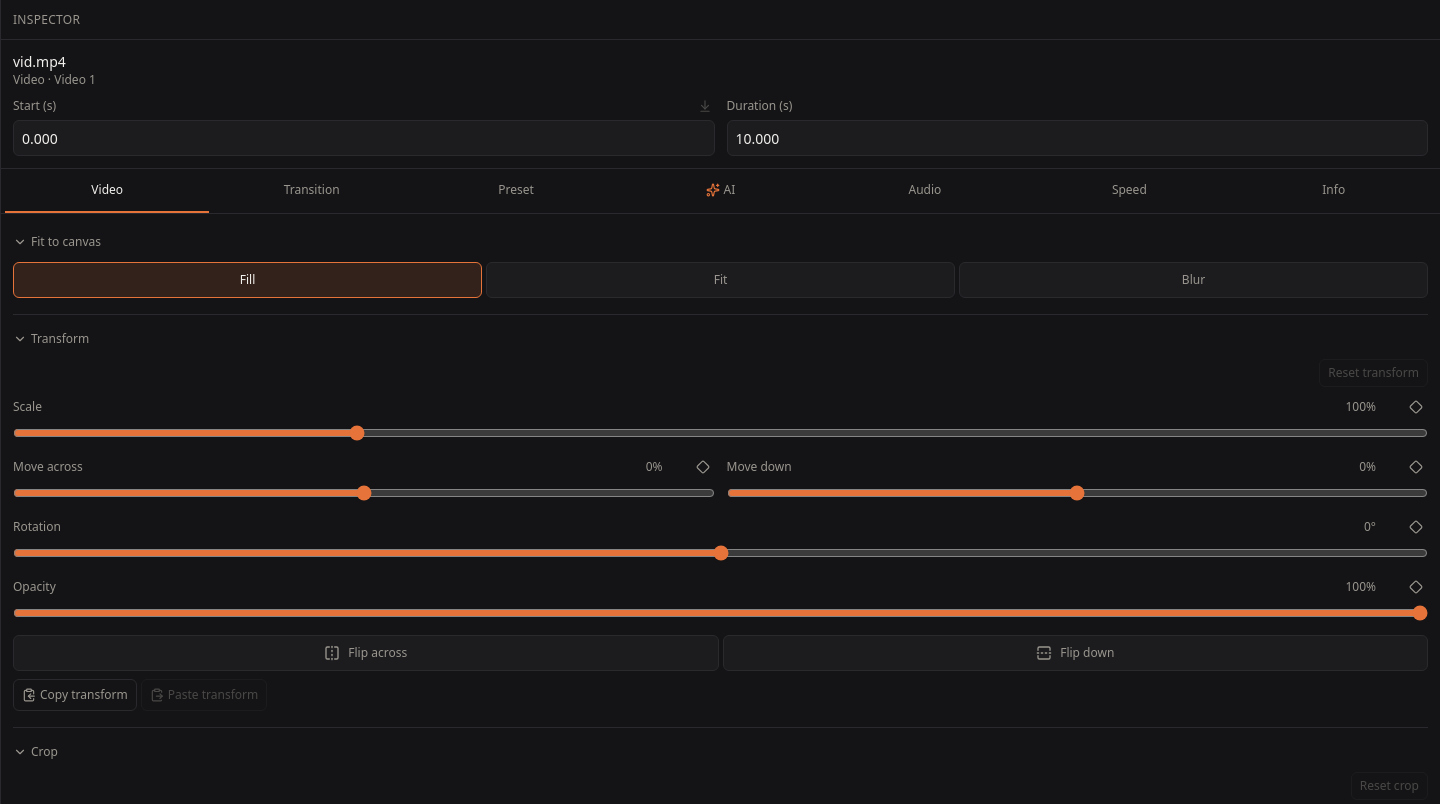
Inspector tabs › each tab shows its own controls and nothing else
Expected: the element named "Fit to canvas" is shown, x1=13 y1=262 x2=1428 y2=298
Expected: the slider labelled "Volume" is not shown
Click the tab "Audio". click: (925, 191)
box: x1=823 y1=169 x2=1027 y2=213
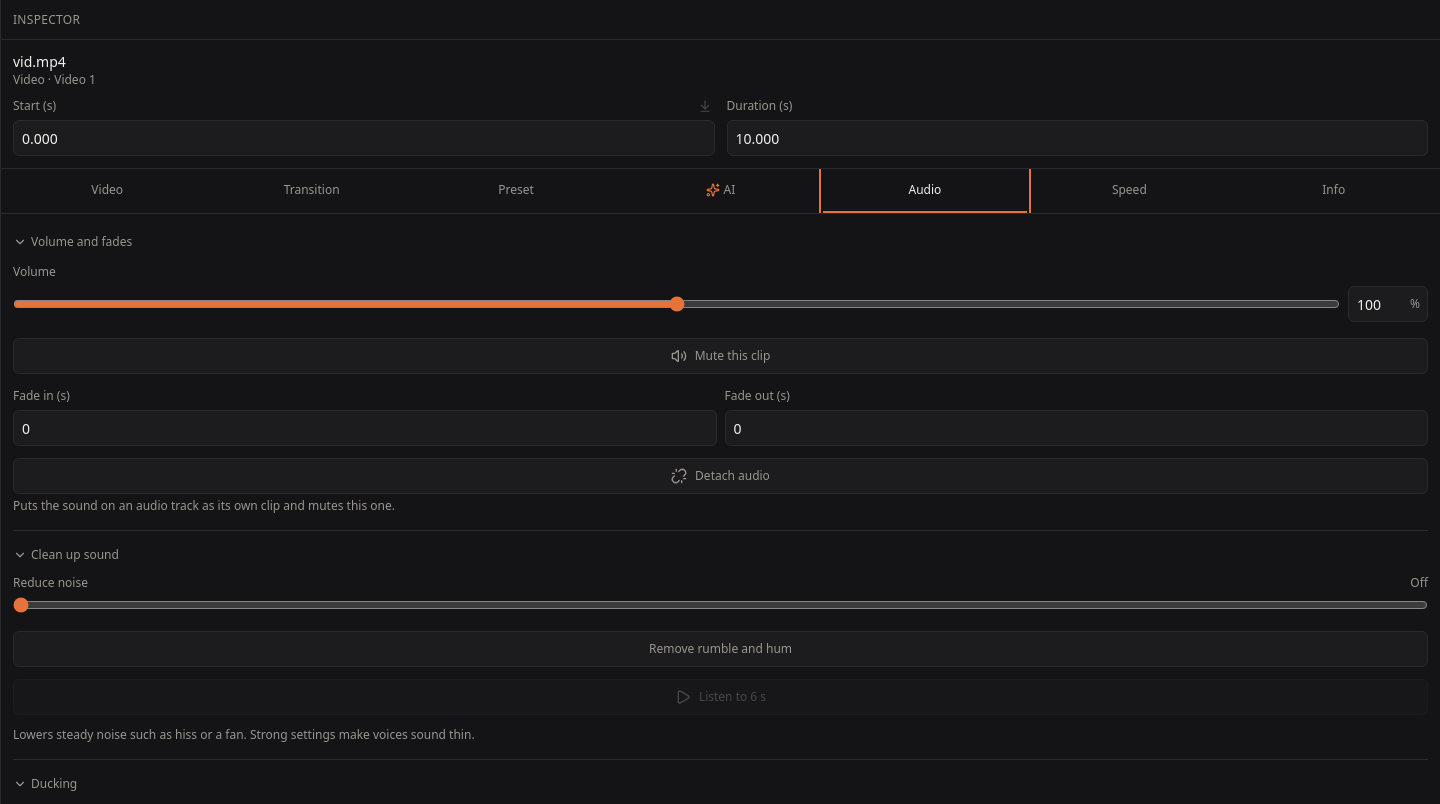
Expected: the slider labelled "Volume" is shown, x1=13 y1=296 x2=1340 y2=312
Expected: the button "Fit to canvas" is gone
Click the tab "Speed". click: (1129, 191)
box: x1=1027 y1=169 x2=1232 y2=213
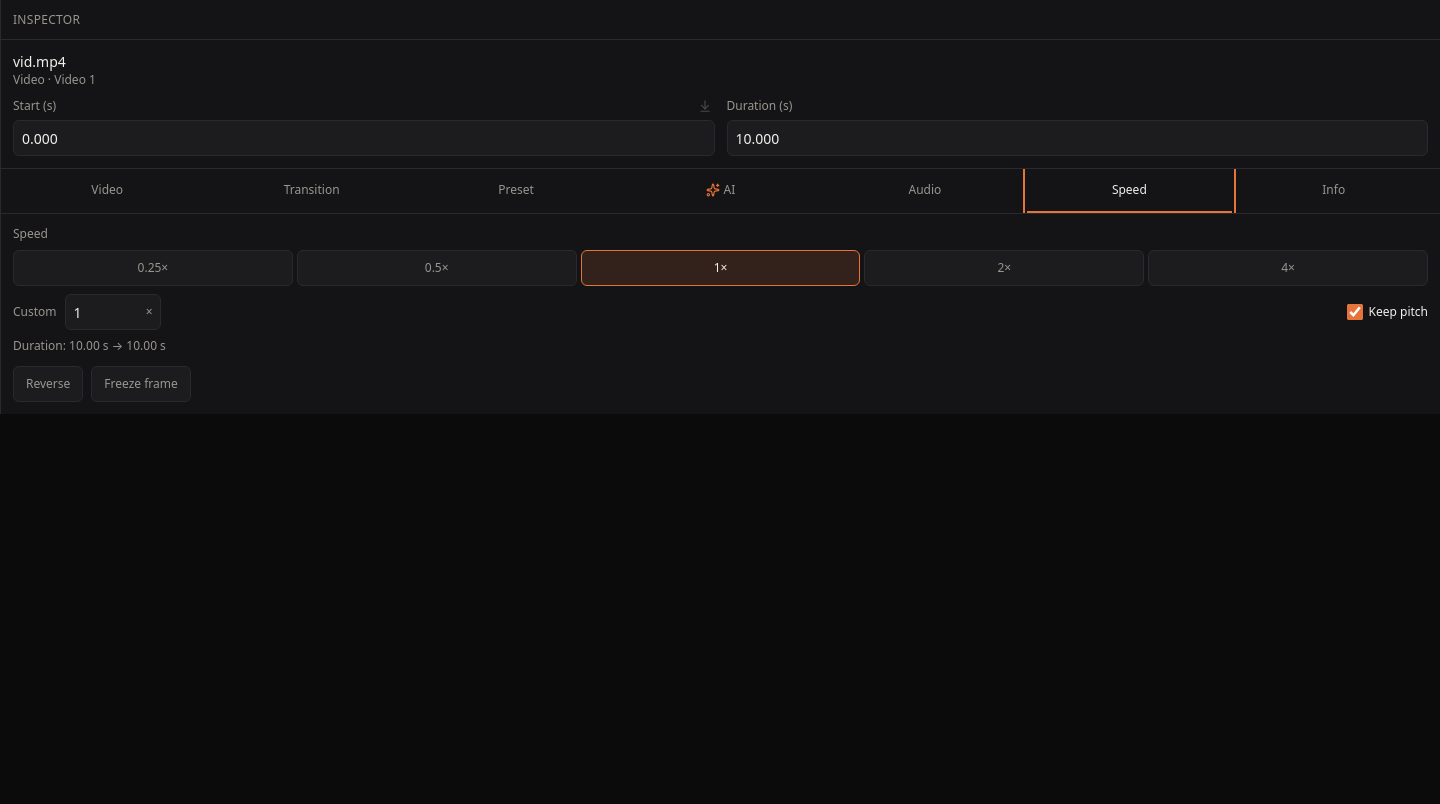
Expected: the element "Speed" is shown, x1=13 y1=226 x2=1428 y2=402
Click the tab "Info". click: (1334, 191)
box: x1=1232 y1=169 x2=1436 y2=213
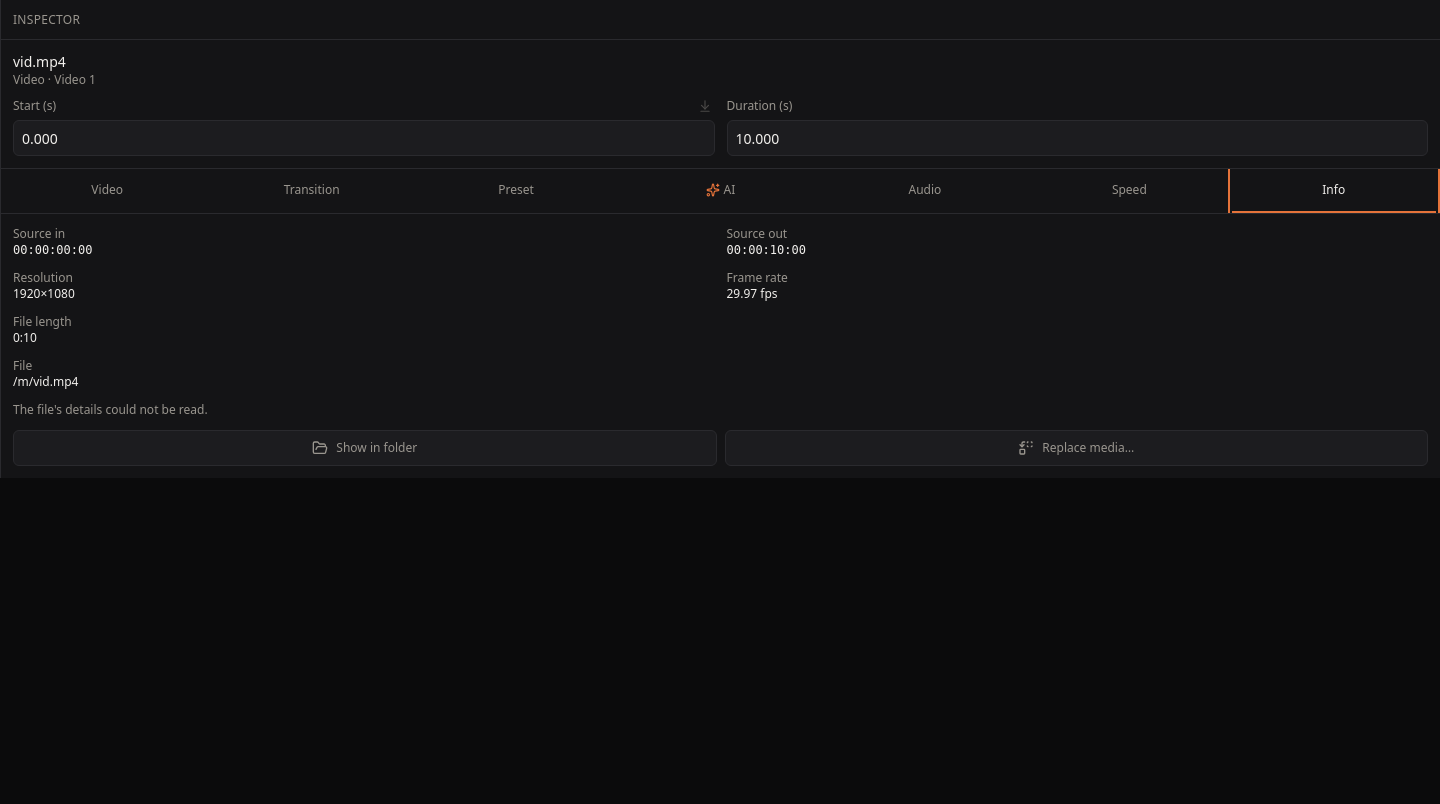
Expected: the text "Source in" is shown, x1=13 y1=225 x2=65 y2=242
Expected: the text "1920×1080" is shown, x1=13 y1=285 x2=75 y2=302
Expected: the text "29.97 fps" is shown, x1=726 y1=285 x2=778 y2=302
